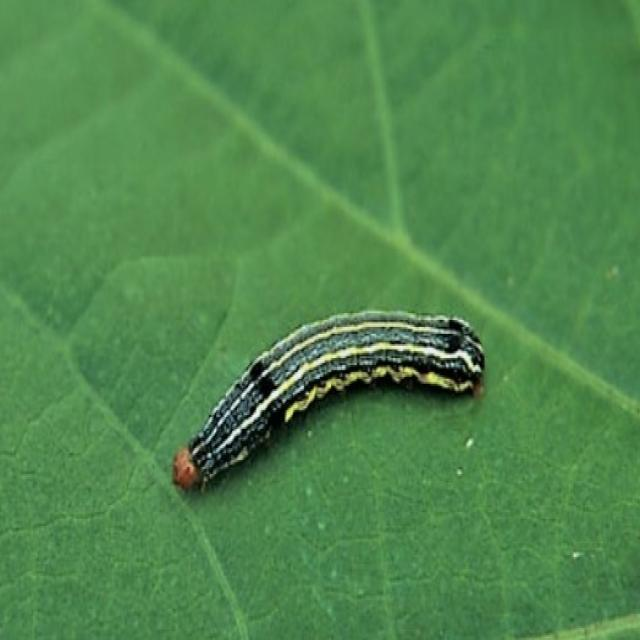armyworm: (171, 306, 485, 493)
